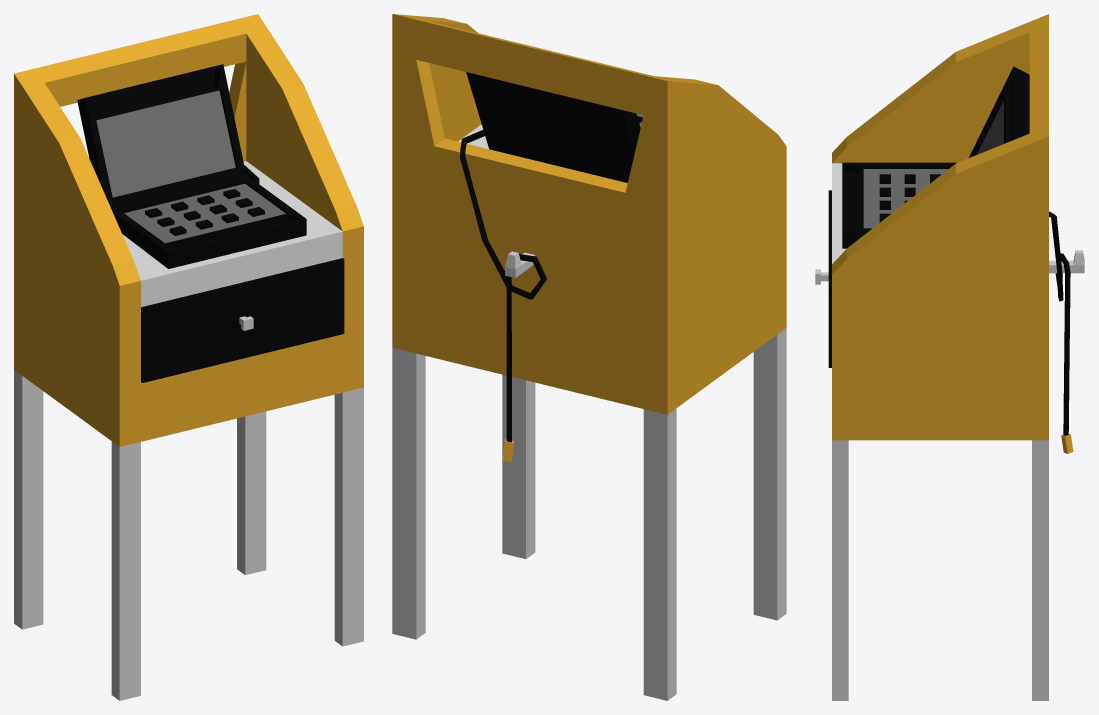
The model's file is Me_Scanner.fbx.
3 views of the same model, side by side, from view 1: azimuth 30°, elevation 25°; view 2: azimuth 150°, elevation 25°; view 3: azimuth 270°, elevation 25° (orthographic). The views are drawn at different scales.
Visible parts, largest first — view 1: Me_Scanner; view 2: Me_Scanner; view 3: Me_Scanner.
Boxes of the visible parts, <box> form: Me_Scanner: <box>14,14,363,700</box>; Me_Scanner: <box>392,14,786,700</box>; Me_Scanner: <box>815,14,1084,700</box>.
Size of the model in its own units: 437 by 407 by 940.
